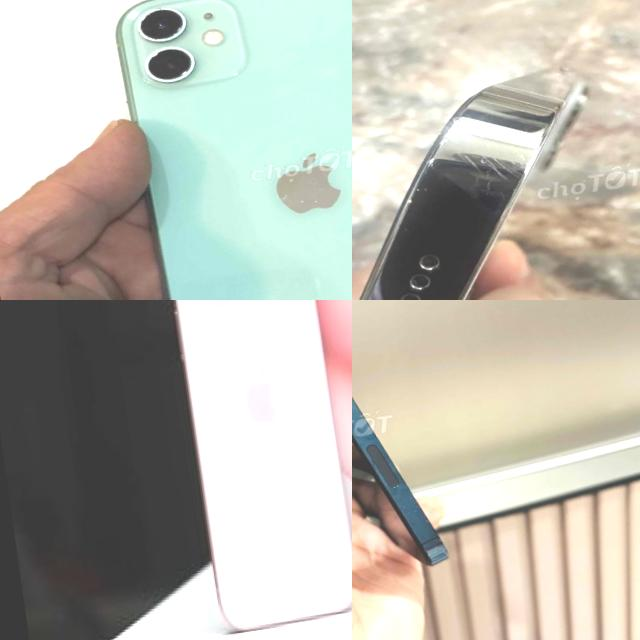gen_11: (116, 0, 352, 300)
gen_12_13: (352, 300, 469, 589)
gen_14: (352, 46, 640, 300)
gen_15: (152, 300, 352, 639)
